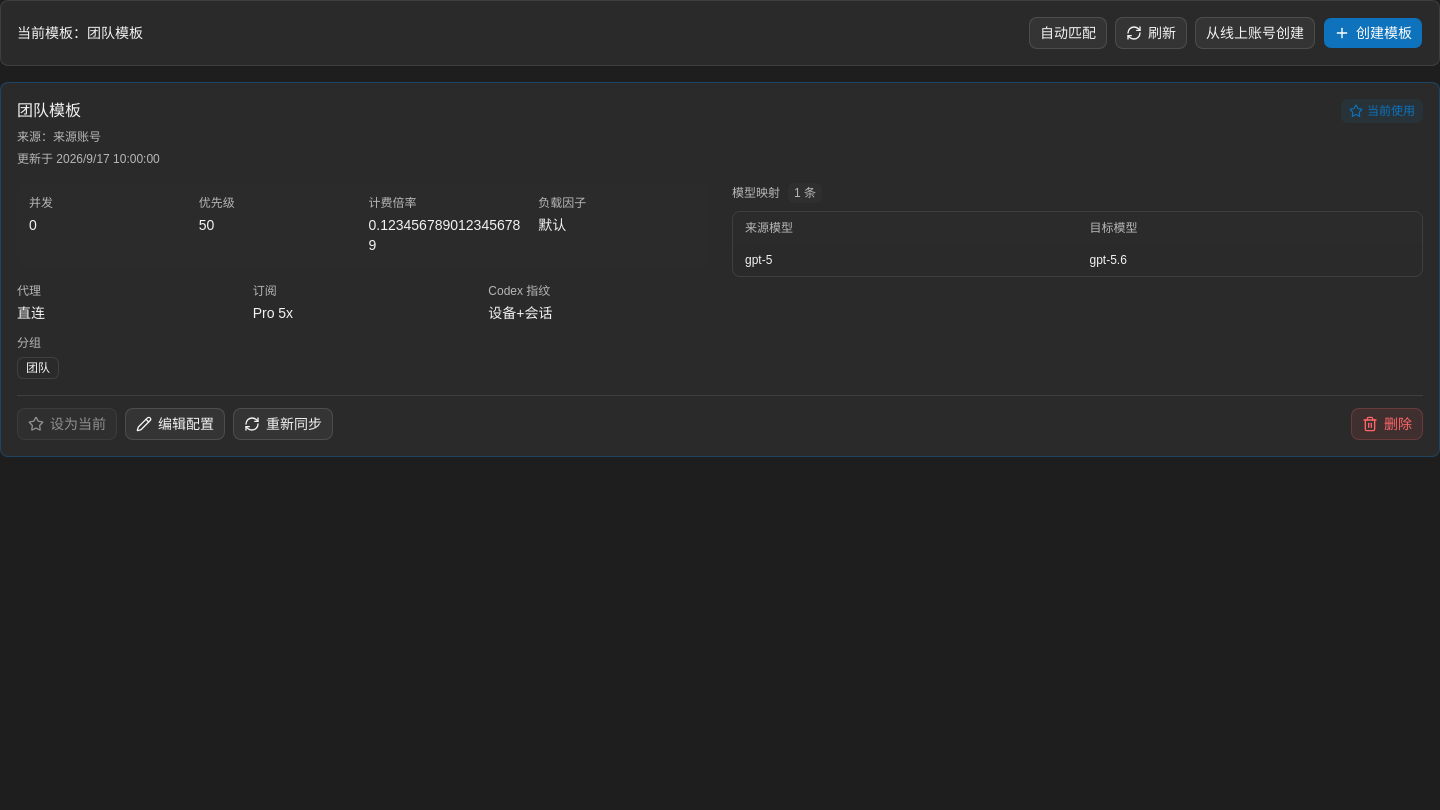
Scenario: 来源读取失败保留取消与重试入口，重试成功后才允许保存
Click the button "重新同步" at x=283, y=424, box x1=233 y1=408 x2=333 y2=440
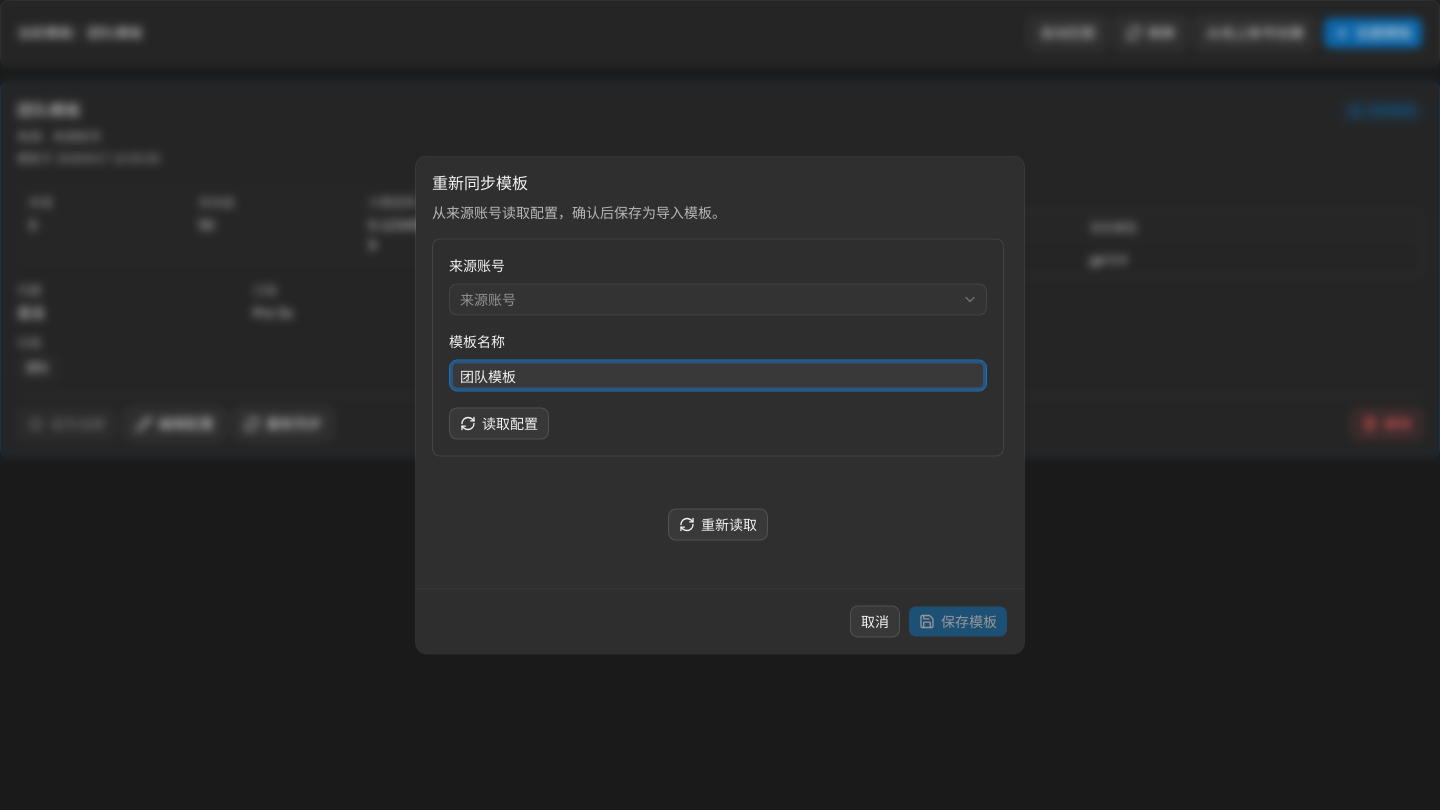
Check: the button "重新读取" is enabled
Check: the button "保存模板" is disabled, box x1=908 y1=606 x2=1008 y2=638
Check: the button "取消" is enabled, box x1=850 y1=606 x2=900 y2=638
Click the button "重新读取" at x=718, y=524, box x1=668 y1=508 x2=768 y2=540
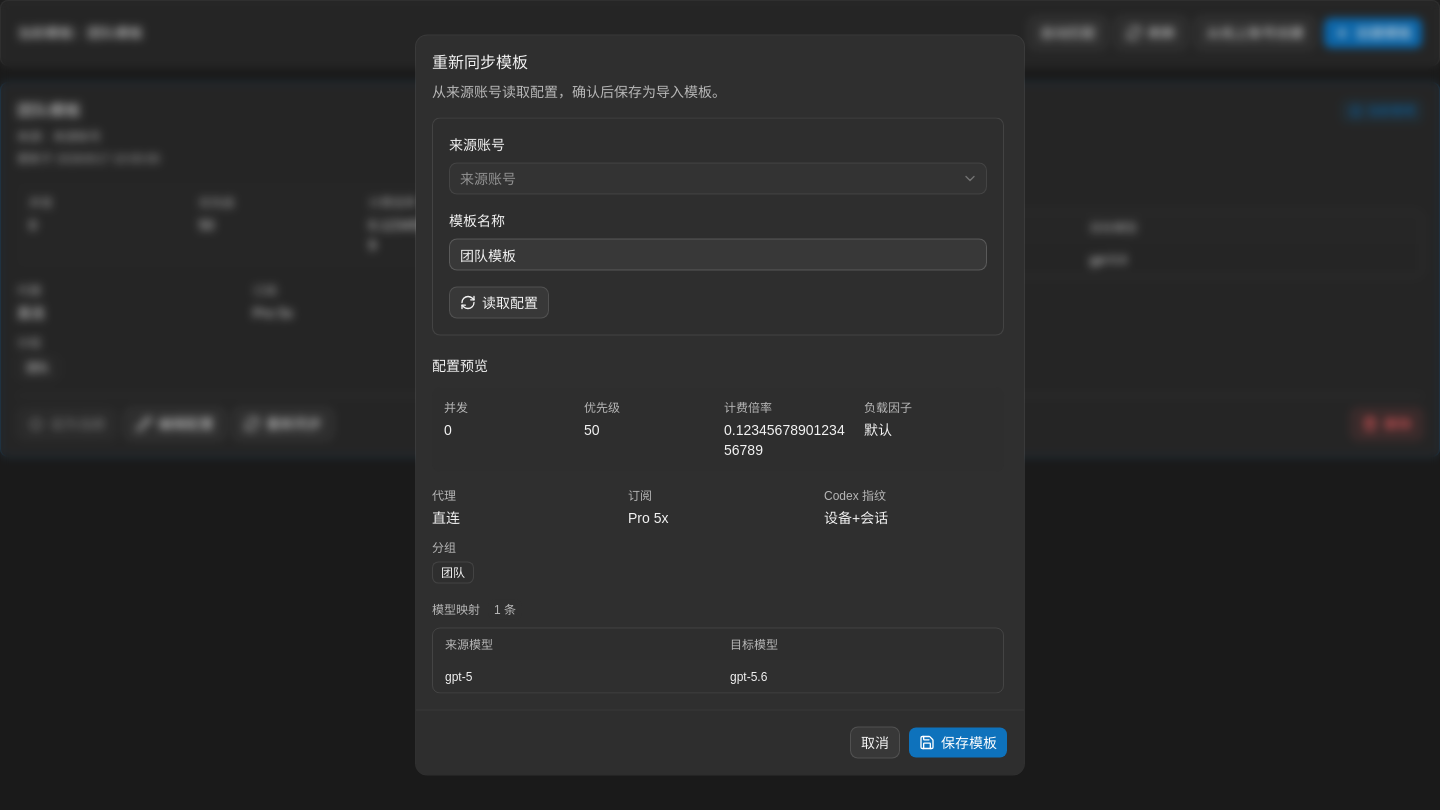
Check: the button "保存模板" is enabled, box x1=908 y1=726 x2=1008 y2=758
